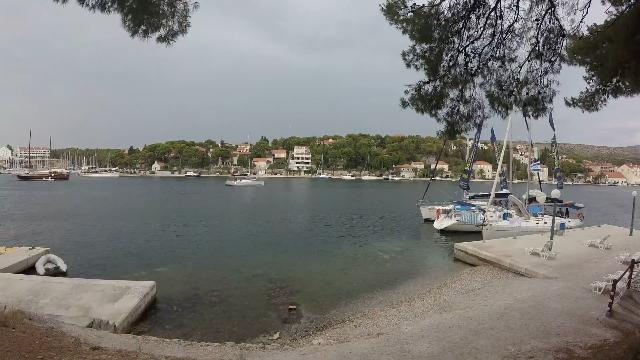Freighter: (8, 160, 72, 185)
Sailboat: (220, 175, 270, 189)
